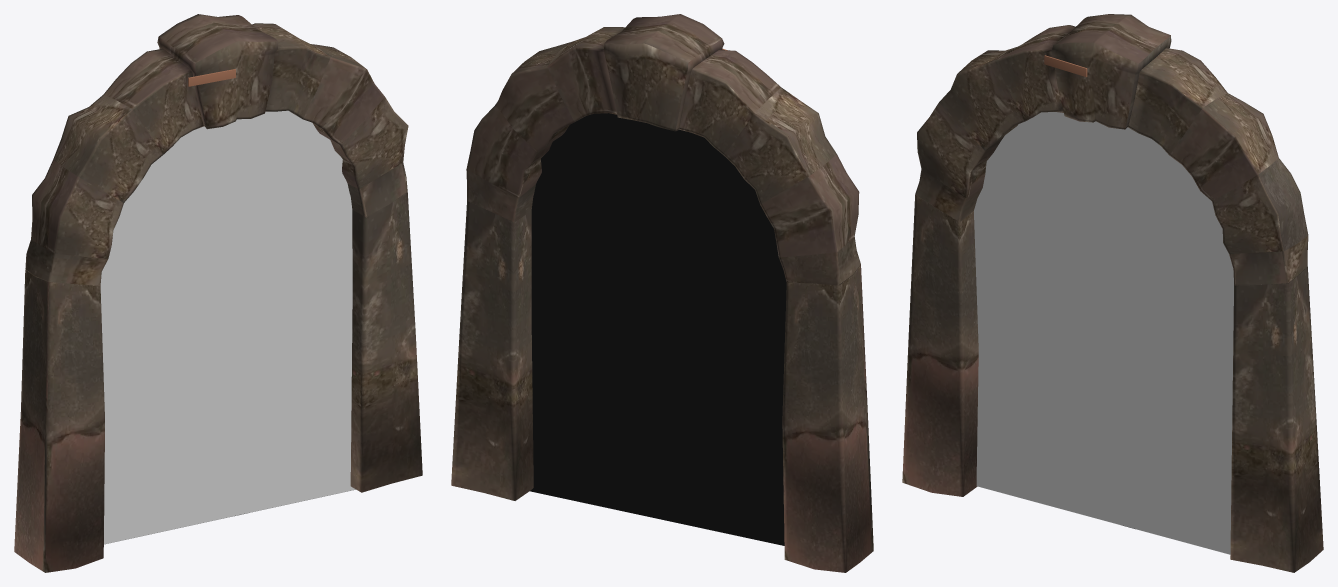
File: middle-door-transformed.glb
3 views of the same model, side by side, from view 1: azimuth 30°, elevation 25°; view 2: azimuth 150°, elevation 25°; view 3: azimuth 330°, elevation 25° (orthographic).
Visible parts, largest first — view 1: Retopo_Circle.001, StoneGateway.003; view 2: Retopo_Circle.001, StoneGateway.003; view 3: Retopo_Circle.001, StoneGateway.003.
Boxes of the visible parts, x1,y1,x2,y2 form: Retopo_Circle.001: (100,110,355,544); StoneGateway.003: (14,14,422,572); Retopo_Circle.001: (530,113,786,545); StoneGateway.003: (451,14,873,572); Retopo_Circle.001: (974,112,1233,554); StoneGateway.003: (902,14,1323,572).
Bounding box in the file's own units: 3.27 × 4.01 × 0.6237.
Materials: 4 (3 with a texture image).
